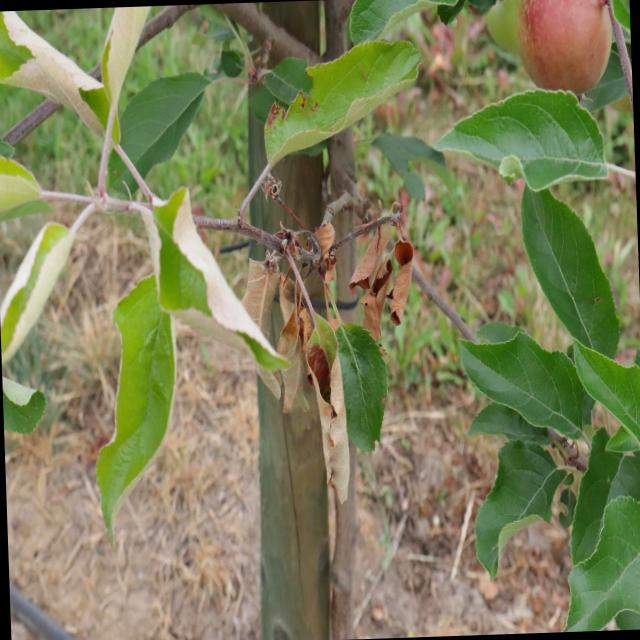-FireBlight-: (242, 223, 350, 508), (358, 210, 414, 334)
